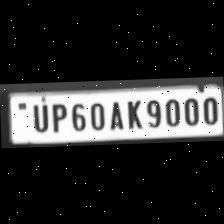0: (160, 95, 182, 127), (86, 98, 106, 131), (198, 92, 218, 124), (180, 94, 200, 125)
6: (66, 99, 86, 132)
9: (142, 96, 162, 128)
A: (106, 98, 124, 130)
K: (121, 96, 143, 130)
P: (46, 100, 68, 132)
U: (27, 100, 50, 132)
